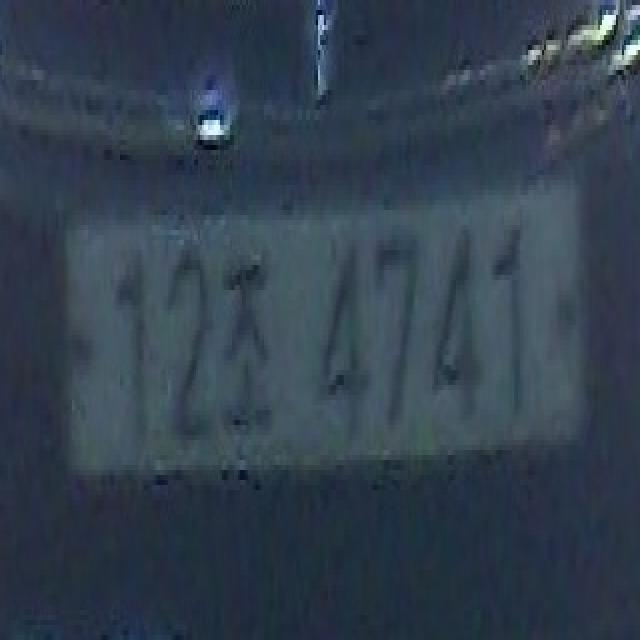1: (488, 200, 542, 430), (112, 245, 156, 460)
2: (160, 235, 220, 455)
4: (428, 210, 488, 435), (314, 230, 372, 460)
7: (370, 220, 426, 440)
jo: (216, 245, 278, 455)
license_plate: (62, 145, 584, 505)
